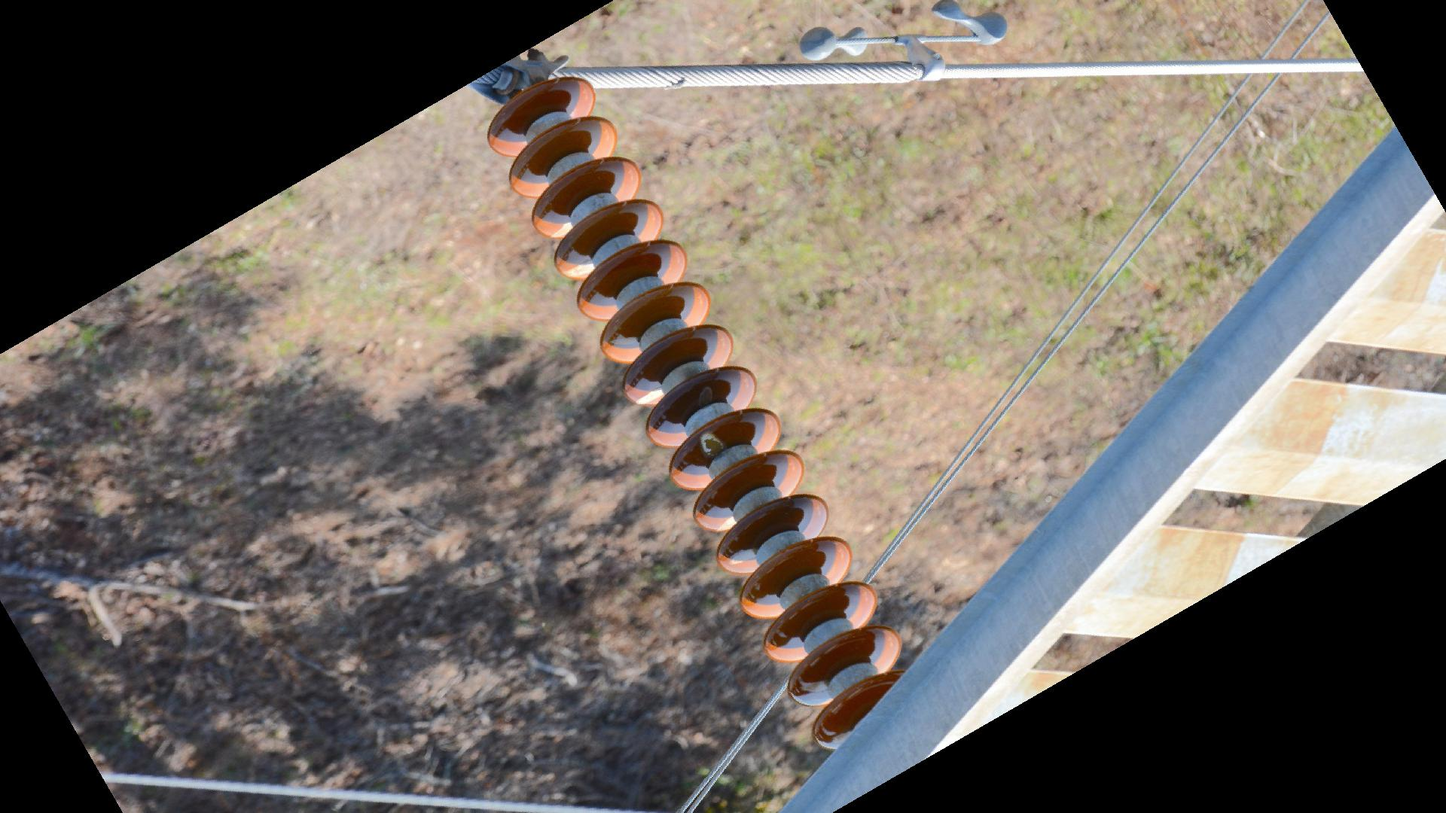insulator: (478, 72, 925, 752)
insulator_flashover: (560, 257, 596, 280), (699, 429, 725, 460), (633, 386, 664, 407)
